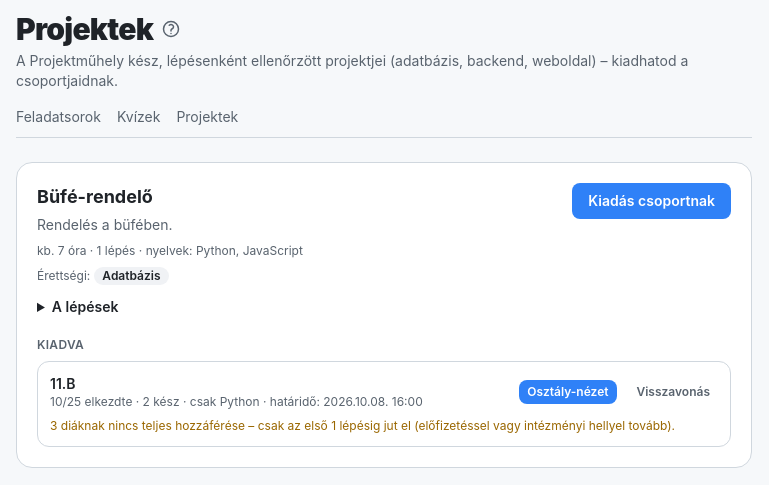
Test: ProjektekListaComponent (Projektek fül) › visszavonás megerősítés után
The image size is (769, 485).
Click the button "Visszavonás".
click(673, 392)  # box [628,380,718,404]
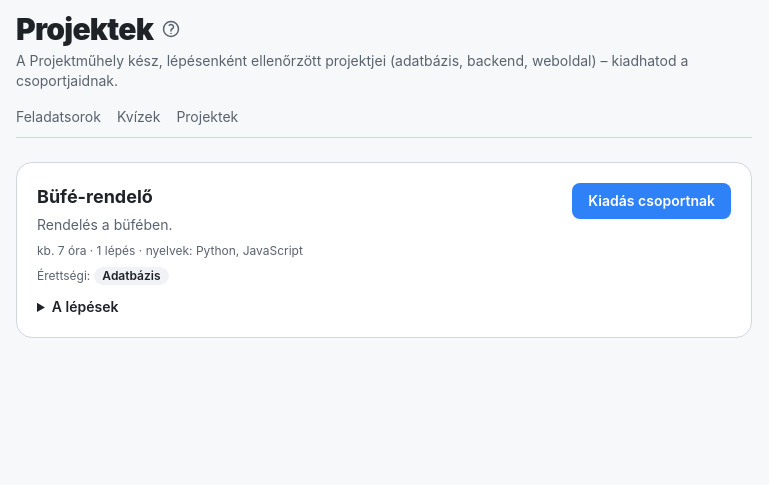
Result: the list item with test id "assignment-7" is gone
